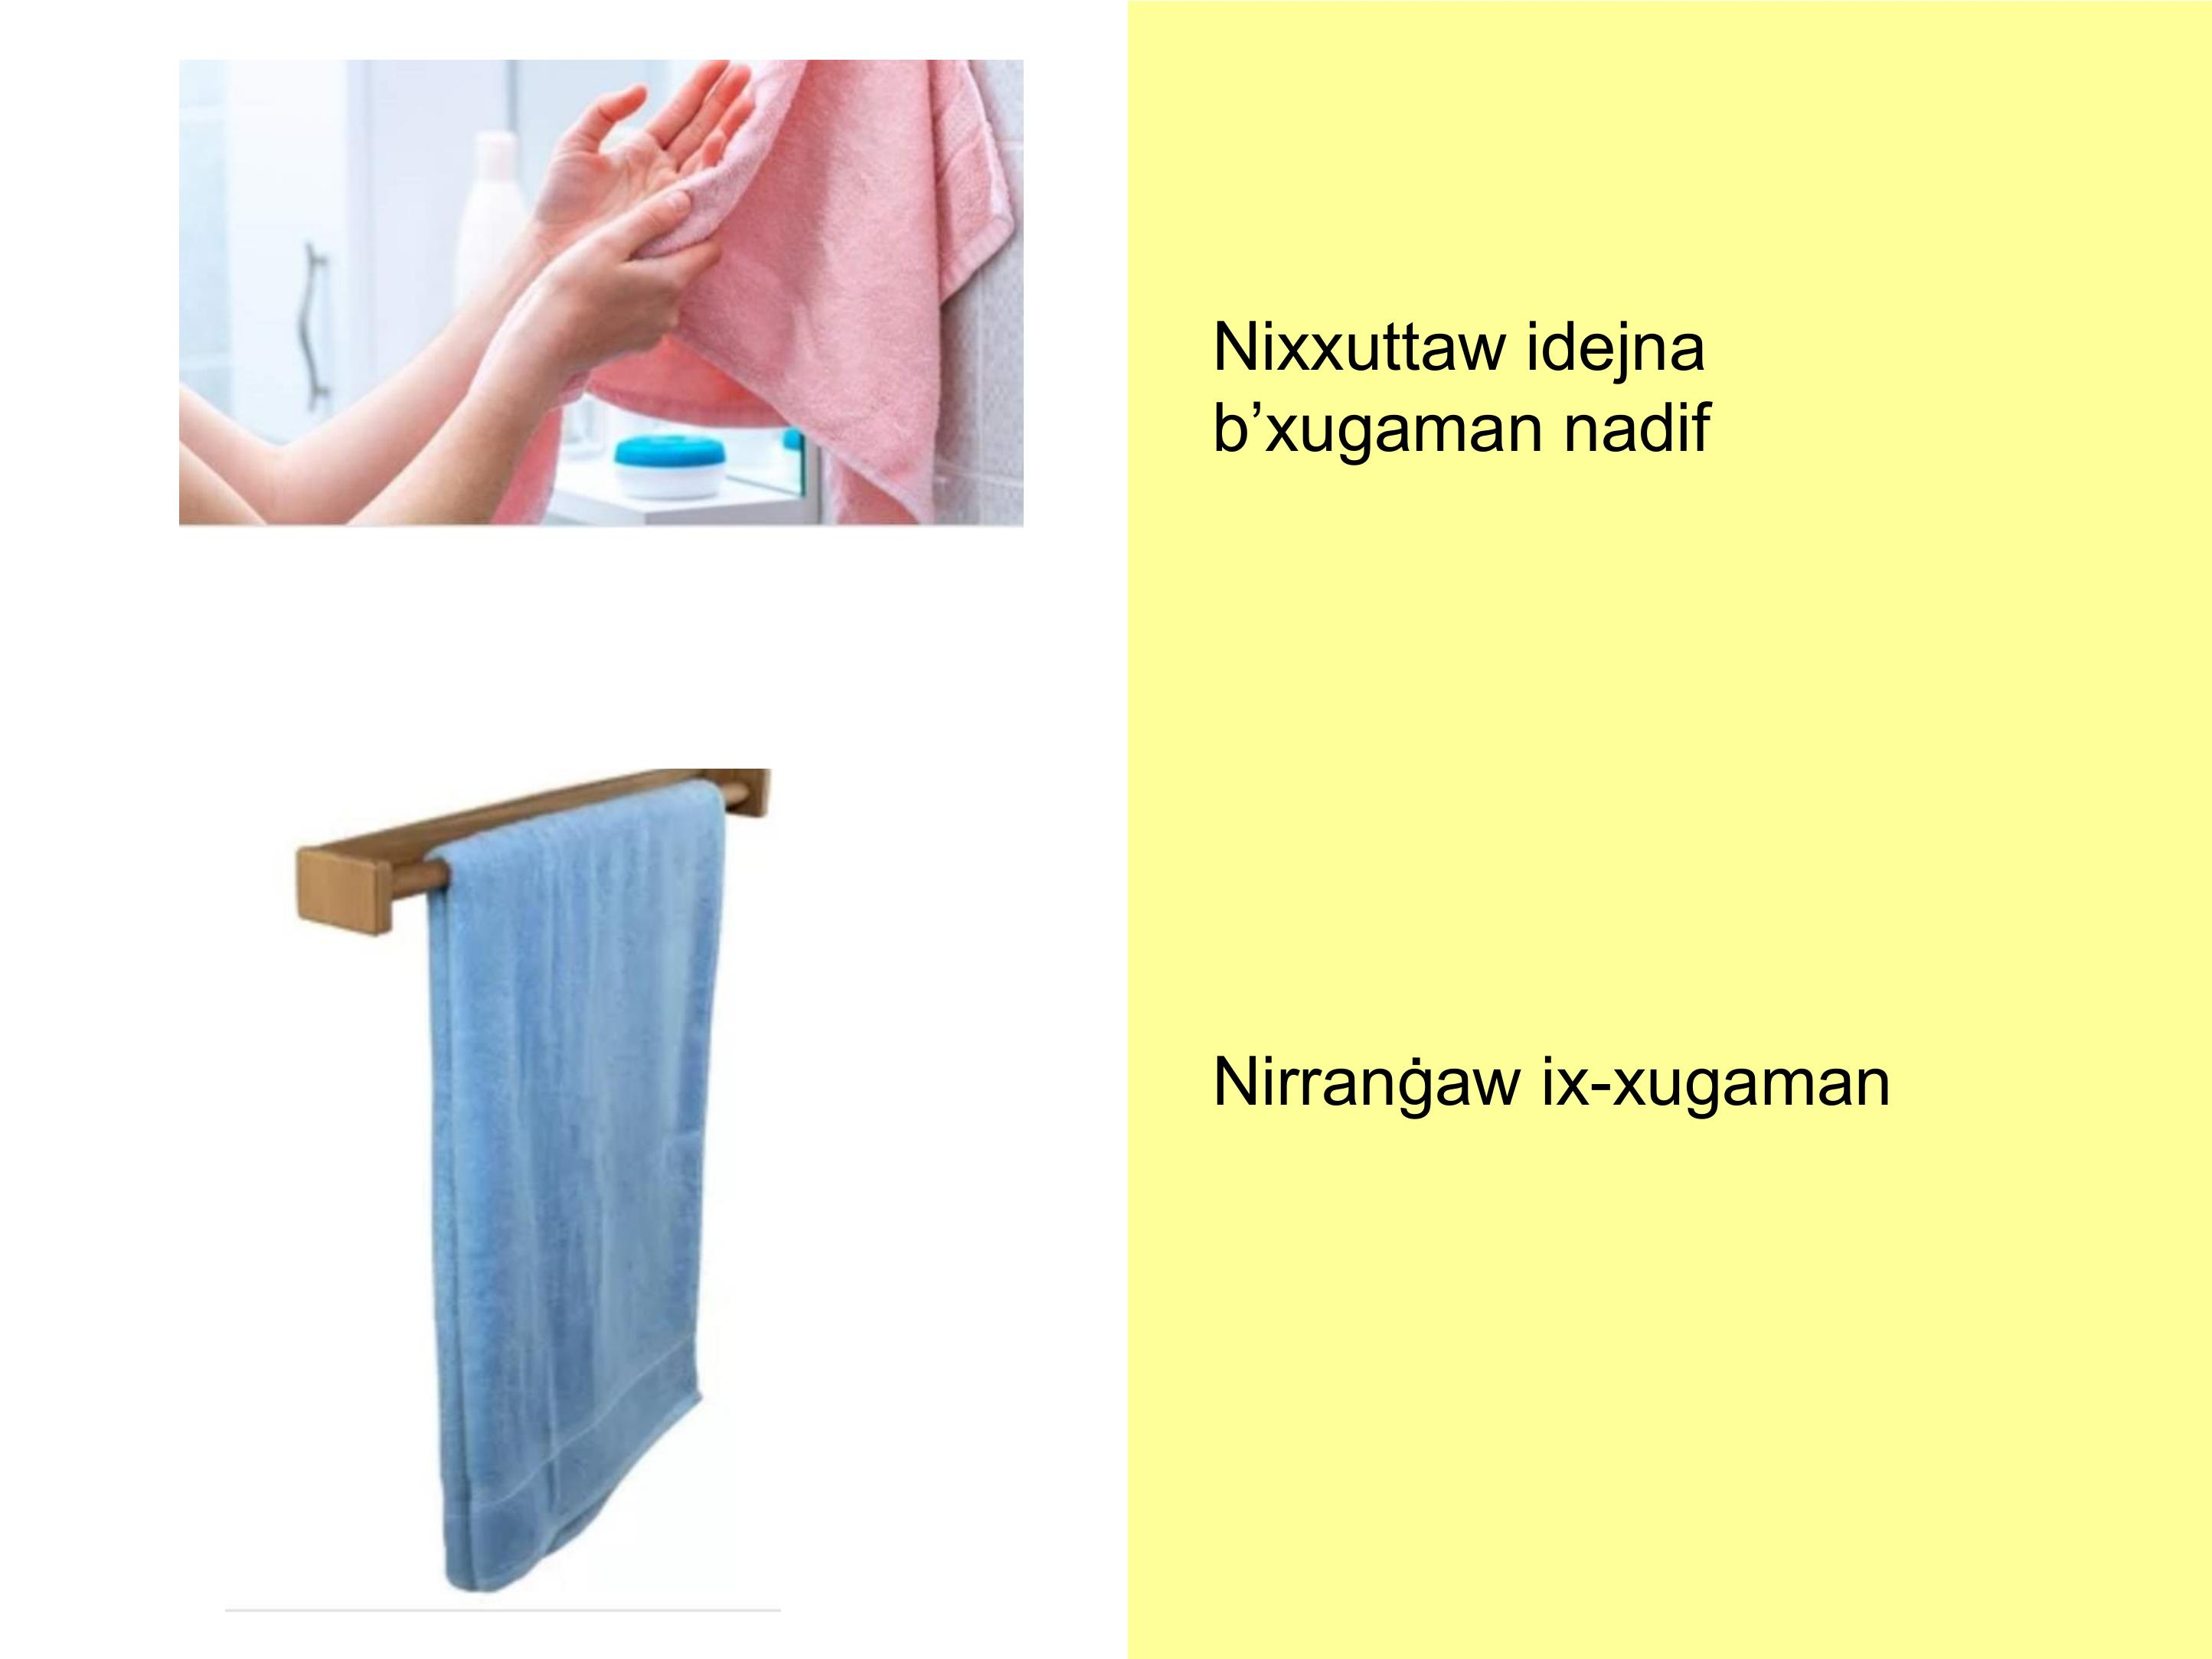text: (1178, 277, 1921, 1154)
